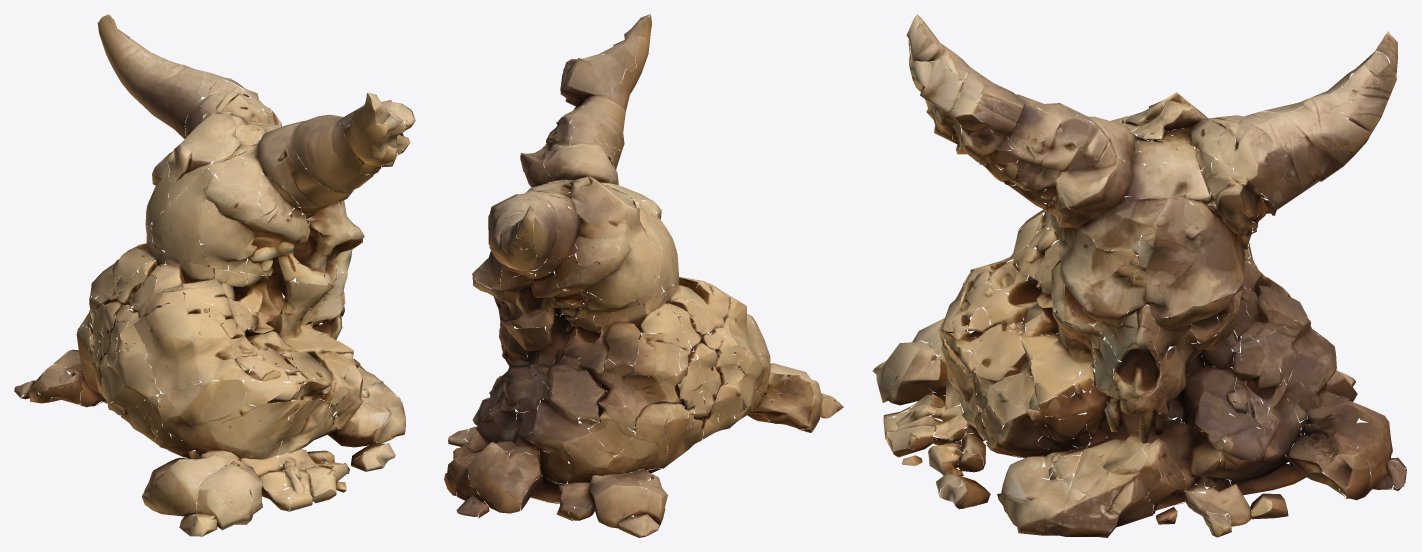
The model's file is skull_rock.glb.
The picture shows the model from 3 angles, left to right: view 1: azimuth 30°, elevation 25°; view 2: azimuth 150°, elevation 25°; view 3: azimuth 270°, elevation 25°; orthographic projection. The views are drawn at different scales.
Visible parts, largest first — view 1: tripo_node_942b9d4b-5f04-4f6e-abaf-83c1656b1e85; view 2: tripo_node_942b9d4b-5f04-4f6e-abaf-83c1656b1e85; view 3: tripo_node_942b9d4b-5f04-4f6e-abaf-83c1656b1e85.
Part boxes in pixels (x1,y1,x2,y2): tripo_node_942b9d4b-5f04-4f6e-abaf-83c1656b1e85: (14, 14, 415, 536); tripo_node_942b9d4b-5f04-4f6e-abaf-83c1656b1e85: (444, 14, 843, 537); tripo_node_942b9d4b-5f04-4f6e-abaf-83c1656b1e85: (872, 14, 1406, 537).
Size of the model in its own units: 0.7667 by 0.9764 by 1.
1 material, 1 textured.
